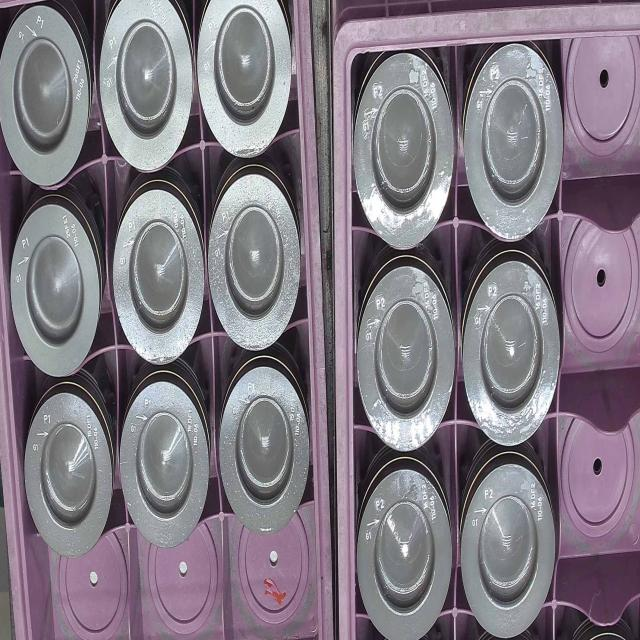P1: (210, 172, 302, 350), (98, 0, 195, 168), (0, 1, 86, 186), (120, 378, 212, 548), (219, 362, 310, 532), (114, 187, 202, 361), (199, 0, 295, 158), (23, 392, 111, 557), (9, 210, 98, 372)
P2: (463, 49, 563, 242), (354, 52, 450, 245), (357, 264, 454, 452), (462, 256, 556, 443), (358, 464, 451, 636), (460, 458, 550, 634)
